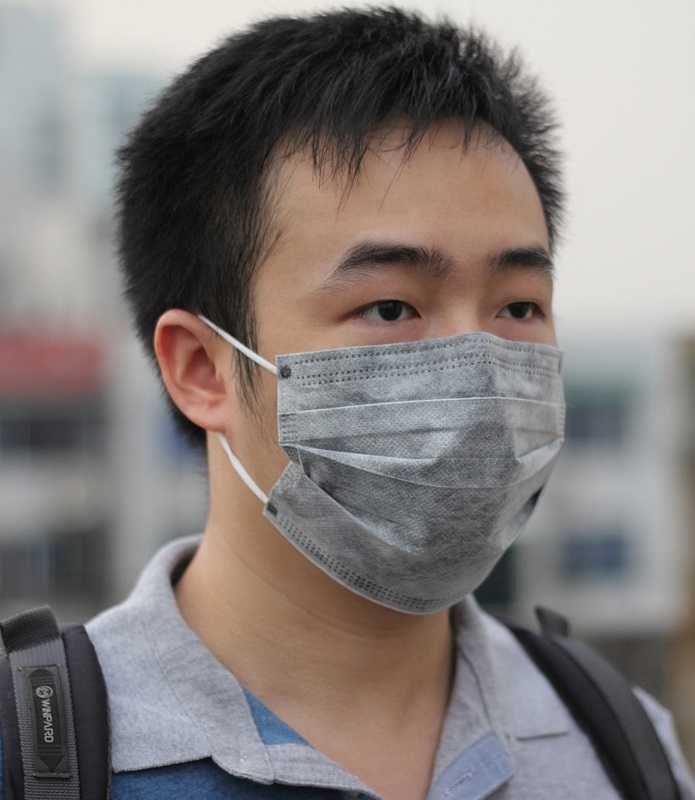face_mask: (251, 123, 563, 581)
